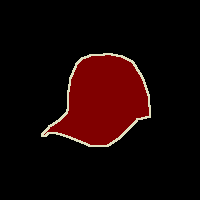hat: (42, 54, 150, 146)
